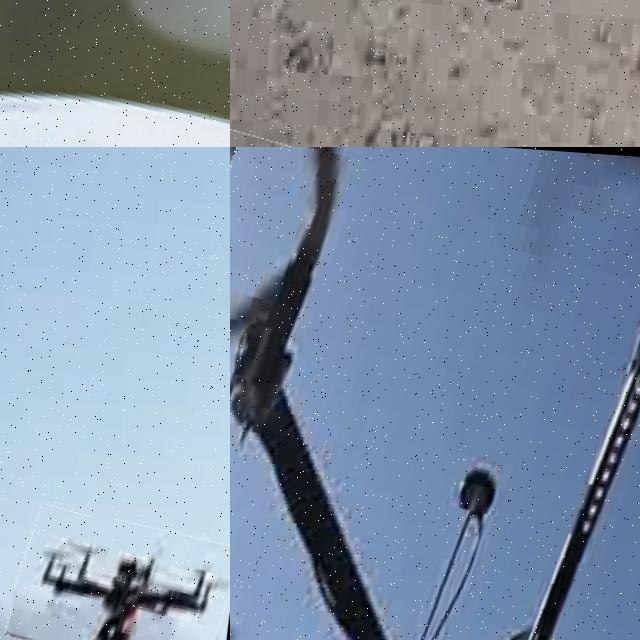0: (230, 147, 640, 640), (8, 512, 230, 640)
drone: (0, 0, 230, 147)
